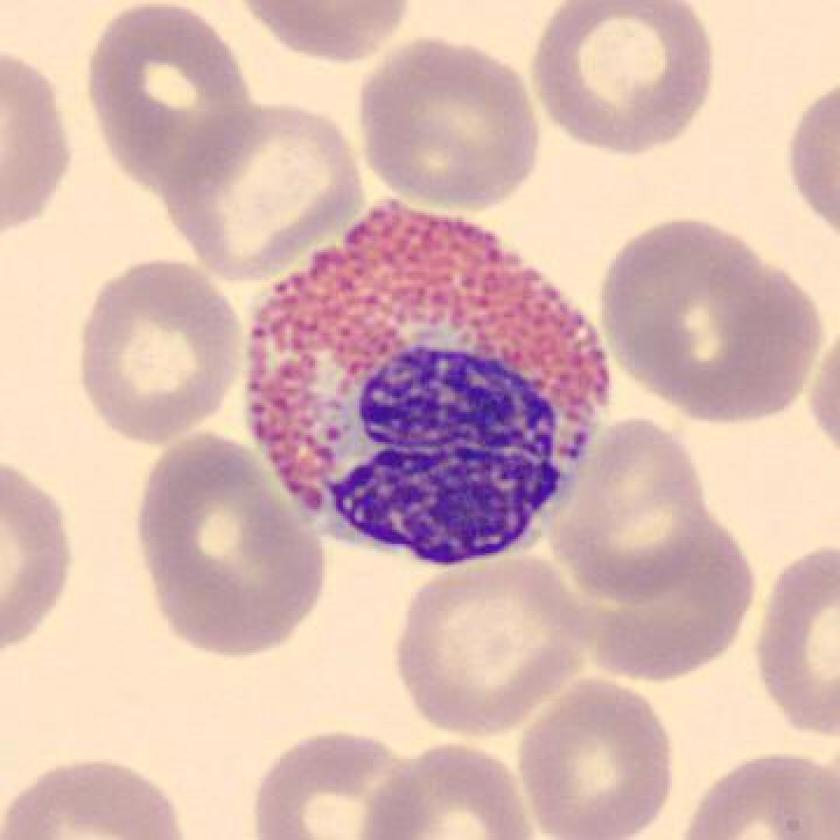eosinophil: (227, 182, 629, 580)
